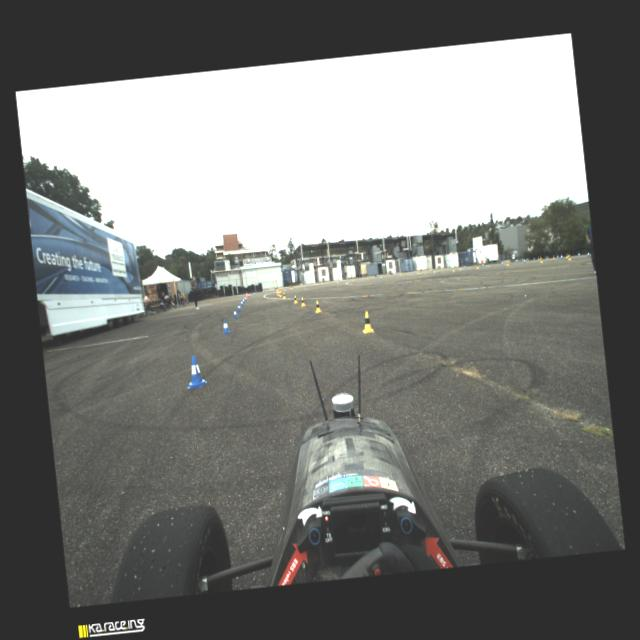blue_cone: (184, 354, 208, 388), (220, 318, 230, 334), (232, 308, 238, 318), (236, 303, 241, 311), (240, 299, 244, 306), (586, 251, 590, 256), (242, 297, 245, 303), (523, 258, 526, 263), (560, 254, 562, 259), (244, 296, 246, 300), (248, 293, 250, 297), (262, 290, 264, 294), (271, 288, 273, 292), (430, 268, 432, 272), (464, 264, 466, 268), (482, 262, 484, 266), (501, 260, 503, 264), (516, 258, 518, 262), (532, 256, 534, 260), (556, 254, 558, 258), (578, 252, 580, 256), (253, 292, 256, 294), (285, 286, 287, 289), (376, 274, 378, 277), (414, 270, 416, 273), (451, 266, 452, 270), (522, 258, 523, 262), (526, 258, 528, 260), (357, 277, 358, 280), (545, 256, 546, 259), (338, 280, 339, 282), (394, 272, 394, 275)
large_orange_cone: (245, 291, 248, 299), (275, 288, 278, 294)
yellow_cone: (360, 309, 374, 333), (314, 300, 322, 312), (300, 296, 306, 306), (292, 295, 298, 303), (539, 257, 543, 263), (282, 292, 285, 298), (568, 254, 571, 260), (279, 292, 282, 296), (506, 260, 508, 266), (452, 266, 454, 272), (399, 272, 402, 276), (476, 264, 478, 269), (278, 291, 280, 296), (566, 253, 568, 258), (379, 274, 382, 277), (290, 286, 292, 290), (278, 288, 280, 292), (284, 286, 286, 290), (303, 283, 305, 287), (432, 268, 434, 272), (552, 254, 554, 258), (321, 281, 323, 284), (418, 270, 420, 273), (538, 257, 540, 260), (546, 256, 548, 259), (366, 276, 368, 278), (336, 280, 338, 282), (352, 277, 353, 280)
